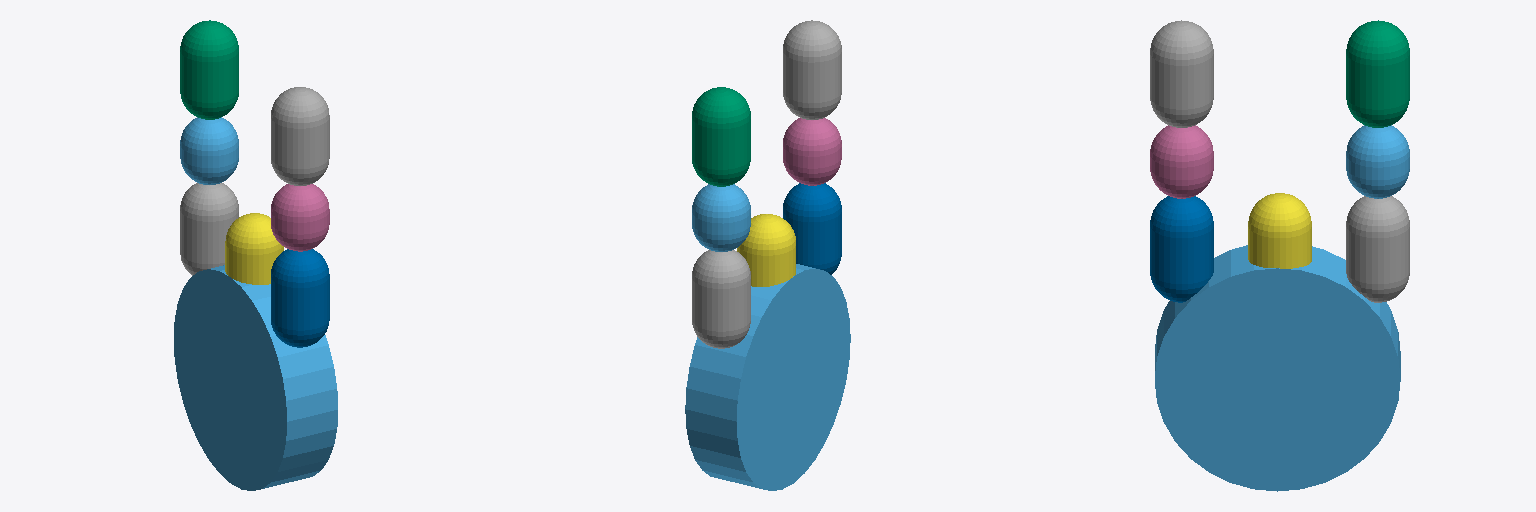
The robot description file, URDF, robot "DexterousHand":
<?xml version="1.0"?>
<robot name="DexterousHand">


    <link name="world"/>
    <joint name="world_to_palm" type="fixed">
        <parent link="world"/>
        <child link="palm"/>
        <origin xyz="0 0 0" rpy="0 0 0"/>
    </joint>
    <link name="palm">
        <inertial>
            <origin xyz="0 0 0.057" rpy="0 0 0"/>
            <mass value="0.30212892864"/>
            <inertia ixx="0.00049080844457568" ixy="0.0" ixz="0.0" iyy="0.00026746366246427523" iyz="0.0" izz="0.00026746366246427523"/>
        </inertial>
        <visual>
            <origin xyz="0 0 0.057" rpy="1.5708 0 1.5708"/>
            <geometry>
                <cylinder radius="0.057" length="0.0296"/>
            </geometry>
            <material name="default"/>
        </visual>
        <collision>
            <origin xyz="0 0 0.057" rpy="1.5708 0 1.5708"/>
            <geometry>
                <cylinder radius="0.057" length="0.0296"/>
            </geometry>
        </collision>
    </link>

    
    <joint name="thumb_joint1" type="revolute">
        <parent link="palm"/>
        <child link="thumb_base"/>
        <origin xyz="0.0 0.0 0.0" rpy="0.0 0.0 0.0"/>
        <axis xyz="1 0 0"/>
        <limit lower="0.0" upper="0.0" effort="1.0" velocity="1.0"/>
    </joint>

    <link name="thumb_base"></link>

    <joint name="thumb_joint2" type="revolute">
        <parent link="thumb_base"/>
        <child link="thumb_proximal"/>
        <origin xyz="0.0 0.0 0.0" rpy="0.0 0.0 0.0"/>
        <axis xyz="0 1 0"/>
        <limit lower="0.0" upper="0.0" effort="1.0" velocity="1.0"/>
    </joint>

    <link name="thumb_proximal">
    </link>

    <joint name="thumb_joint3" type="revolute">
        <parent link="thumb_proximal"/>
        <child link="thumb_knuckle"/>
        <origin xyz="0.0 0.0 0.0" rpy="0.0 0.0 0.0"/>
        <axis xyz="1 0 0"/>
        <limit lower="0.0" upper="0.0" effort="1.0" velocity="1.0"/>
    </joint>

    <link name="thumb_knuckle"></link>

    <joint name="thumb_joint4" type="revolute">
        <parent link="thumb_knuckle"/>
        <child link="thumb_middle"/>
        <origin xyz="0 0 0" rpy="0 0 0"/> 
        <axis xyz="0 1 0"/>
        <limit lower="0.0" upper="0.0" effort="1.0" velocity="1.0"/>
    </joint>

    <link name="thumb_middle">
    </link>

    <joint name="thumb_joint5" type="revolute">
        <parent link="thumb_middle"/>
        <child link="thumb_distal"/>
        <origin xyz="0 0 0" rpy="0 0 0"/> 
        <axis xyz="0 1 0"/>
        <limit lower="0.0" upper="0.0" effort="1.0" velocity="1.0"/>
    </joint>

    <link name="thumb_distal">
    </link>

    
    <joint name="index_joint1" type="revolute">
        <parent link="palm"/>
        <child link="index_proximal"/>
        <origin xyz="0.0 0.0465 0.091" rpy="0.0 0.0 0.0"/>
        <axis xyz="0 1 0"/>
        <limit lower="-0.314" upper="2.23" effort="1.0" velocity="1.0"/>
    </joint>

    <link name="index_proximal">
        <inertial>
            <origin xyz="0 0 0.02655" rpy="0 0 0"/>
            <mass value="0.036540024998400006"/>
            <inertia ixx="1.058665009272394e-05" ixy="0.0" ixz="0.0" 
            iyy="1.058665009272394e-05" iyz="0.0" izz="4.001863537824769e-06"/>
        </inertial>
        <visual>
            <origin xyz="0 0 0.02655" rpy="0 0 0"/>
            <geometry>
                <cylinder radius="0.0148" length="0.0235"/>
            </geometry>
            <material name="default"/>
        </visual>
        <visual>
            <origin xyz="0 0 0.0148" rpy="0 0 0"/>
            <geometry>
                <sphere radius="0.0148"/>
            </geometry>
            <material name="default"/>
        </visual>
        <visual>
            <origin xyz="0 0 0.0383" rpy="0 0 0"/>
            <geometry>
                <sphere radius="0.0148"/>
            </geometry>
            <material name="default"/>
        </visual>
        <collision>
            <origin xyz="0 0 0.02655" rpy="0 0 0"/>
            <geometry>
                <cylinder radius="0.0148" length="0.0235"/>
            </geometry>
        </collision>
        <collision>
            <origin xyz="0 0 0.0148" rpy="0 0 0"/>
            <geometry>
                <sphere radius="0.0148"/>
            </geometry>
        </collision>
        <collision>
            <origin xyz="0 0 0.0383" rpy="0 0 0"/>
            <geometry>
                <sphere radius="0.0148"/>
            </geometry>
        </collision>
    </link>

    <joint name="index_joint2" type="revolute">
        <parent link="index_proximal"/>
        <child link="index_dummy"/>
        <origin xyz="0.0 0.0 0.038" rpy="0.0 0.0 0.0"/>
        <axis xyz="1 0 0"/>
        <limit lower="-1.047" upper="1.047" effort="1.0" velocity="1.0"/>
    </joint>

    <link name="index_dummy"></link>

    <joint name="index_joint3" type="revolute">
        <parent link="index_dummy"/>
        <child link="index_middle"/>
        <origin xyz="0 0 0.015100000000000002" rpy="0 0 0"/>
        <axis xyz="0 1 0"/>
        <limit lower="-0.506" upper="1.885" effort="1.0" velocity="1.0"/>
    </joint>

    <link name="index_middle">
        <inertial>
            <origin xyz="0 0 0.01805" rpy="0 0 0"/>
            <mass value="0.0248417119104"/>
            <inertia ixx="4.058162759109537e-06" ixy="0.0" ixz="0.0" 
            iyy="4.058162759109537e-06" iyz="0.0" izz="2.7206642884270085e-06"/>
        </inertial>
        <visual>
            <origin xyz="0 0 0.01805" rpy="0 0 0"/>
            <geometry>
                <cylinder radius="0.0148" length="0.006499999999999999"/>
            </geometry>
            <material name="default"/>
        </visual>
        <visual>
            <origin xyz="0 0 0.0148" rpy="0 0 0"/>
            <geometry>
                <sphere radius="0.0148"/>
            </geometry>
            <material name="default"/>
        </visual>
        <visual>
            <origin xyz="0 0 0.0213" rpy="0 0 0"/>
            <geometry>
                <sphere radius="0.0148"/>
            </geometry>
            <material name="default"/>
        </visual>
        <collision>
            <origin xyz="0 0 0.01805" rpy="0 0 0"/>
            <geometry>
                <cylinder radius="0.0148" length="0.006499999999999999"/>
            </geometry>
        </collision>
        <collision>
            <origin xyz="0 0 0.0148" rpy="0 0 0"/>
            <geometry>
                <sphere radius="0.0148"/>
            </geometry>
        </collision>
        <collision>
            <origin xyz="0 0 0.0213" rpy="0 0 0"/>
            <geometry>
                <sphere radius="0.0148"/>
            </geometry>
        </collision>
    </link>

    <joint name="index_joint4" type="revolute">
        <parent link="index_middle"/>
        <child link="index_distal"/>
        <origin xyz="0 0 0.0361" rpy="0 0 0"/> 
        <axis xyz="0 1 0"/>
        <limit lower="-0.366" upper="2.042" effort="1.0" velocity="1.0"/>
    </joint>

    <link name="index_distal">
        <inertial>
            <origin xyz="0 0 0.026" rpy="0 0 0"/>
            <mass value="0.035783075328"/>
            <inertia ixx="1.002260084553728e-05" ixy="0.0" ixz="0.0" 
            iyy="1.002260084553728e-05" iyz="0.0" izz="3.91896240992256e-06"/>
        </inertial>
        <visual>
            <origin xyz="0 0 0.026" rpy="0 0 0"/>
            <geometry>
                <cylinder radius="0.0148" length="0.022399999999999996"/>
            </geometry>
            <material name="default"/>
        </visual>
        <visual>
            <origin xyz="0 0 0.0148" rpy="0 0 0"/>
            <geometry>
                <sphere radius="0.0148"/>
            </geometry>
            <material name="default"/>
        </visual>
        <visual>
            <origin xyz="0 0 0.0372" rpy="0 0 0"/>
            <geometry>
                <sphere radius="0.0148"/>
            </geometry>
            <material name="default"/>
        </visual>
        <collision>
            <origin xyz="0 0 0.026" rpy="0 0 0"/>
            <geometry>
                <cylinder radius="0.0148" length="0.022399999999999996"/>
            </geometry>
        </collision>
        <collision>
            <origin xyz="0 0 0.0148" rpy="0 0 0"/>
            <geometry>
                <sphere radius="0.0148"/>
            </geometry>
        </collision>
        <collision>
            <origin xyz="0 0 0.0372" rpy="0 0 0"/>
            <geometry>
                <sphere radius="0.0148"/>
            </geometry>
        </collision>
    </link>

    
    <joint name="middle_joint1" type="revolute">
        <parent link="palm"/>
        <child link="middle_proximal"/>
        <origin xyz="0.0 0.0011 0.091" rpy="0.0 0.0 0.0"/>
        <axis xyz="0 1 0"/>
        <limit lower="-0.314" upper="2.23" effort="1.0" velocity="1.0"/>
    </joint>

    <link name="middle_proximal">
        <inertial>
            <origin xyz="0 0 0.02655" rpy="0 0 0"/>
            <mass value="0.036540024998400006"/>
            <inertia ixx="1.058665009272394e-05" ixy="0.0" ixz="0.0" 
            iyy="1.058665009272394e-05" iyz="0.0" izz="4.001863537824769e-06"/>
        </inertial>
        <visual>
            <origin xyz="0 0 0.02655" rpy="0 0 0"/>
            <geometry>
                <cylinder radius="0.0148" length="0.0235"/>
            </geometry>
            <material name="default"/>
        </visual>
        <visual>
            <origin xyz="0 0 0.0148" rpy="0 0 0"/>
            <geometry>
                <sphere radius="0.0148"/>
            </geometry>
            <material name="default"/>
        </visual>
        <visual>
            <origin xyz="0 0 0.0383" rpy="0 0 0"/>
            <geometry>
                <sphere radius="0.0148"/>
            </geometry>
            <material name="default"/>
        </visual>
        <collision>
            <origin xyz="0 0 0.02655" rpy="0 0 0"/>
            <geometry>
                <cylinder radius="0.0148" length="0.0235"/>
            </geometry>
        </collision>
        <collision>
            <origin xyz="0 0 0.0148" rpy="0 0 0"/>
            <geometry>
                <sphere radius="0.0148"/>
            </geometry>
        </collision>
        <collision>
            <origin xyz="0 0 0.0383" rpy="0 0 0"/>
            <geometry>
                <sphere radius="0.0148"/>
            </geometry>
        </collision>
    </link>

    <joint name="middle_joint2" type="revolute">
        <parent link="middle_proximal"/>
        <child link="middle_dummy"/>
        <origin xyz="0.0 0.0 0.038" rpy="0.0 0.0 0.0"/>
        <axis xyz="0 1 0"/>
        <limit lower="0.0" upper="0.0" effort="1.0" velocity="1.0"/>
    </joint>

    <link name="middle_dummy"></link>

    <joint name="middle_joint3" type="revolute">
        <parent link="middle_dummy"/>
        <child link="middle_middle"/>
        <origin xyz="0 0 0.015100000000000002" rpy="0 0 0"/>
        <axis xyz="0 1 0"/>
        <limit lower="0.0" upper="0.0" effort="1.0" velocity="1.0"/>
    </joint>

    <link name="middle_middle">
    </link>

    <joint name="middle_joint4" type="revolute">
        <parent link="middle_middle"/>
        <child link="middle_distal"/>
        <origin xyz="0 0 0" rpy="0 0 0"/> 
        <axis xyz="0 1 0"/>
        <limit lower="0.0" upper="0.0" effort="1.0" velocity="1.0"/>
    </joint>

    <link name="middle_distal">
    </link>

    
    <joint name="ring_joint1" type="revolute">
        <parent link="palm"/>
        <child link="ring_proximal"/>
        <origin xyz="0.0 0.0 0.0" rpy="0.0 0.0 0.0"/>
        <axis xyz="1 0 0"/>
        <limit lower="0.0" upper="0.0" effort="1.0" velocity="1.0"/>
    </joint>

    <link name="ring_proximal">
    </link>

    <joint name="ring_joint2" type="revolute">
        <parent link="ring_proximal"/>
        <child link="ring_dummy"/>
        <origin xyz="0.0 0.0 0.0" rpy="0.0 0.0 0.0"/>
        <axis xyz="0 1 0"/>
        <limit lower="0.0" upper="0.0" effort="1.0" velocity="1.0"/>
    </joint>

    <link name="ring_dummy"></link>

    <joint name="ring_joint3" type="revolute">
        <parent link="ring_dummy"/>
        <child link="ring_middle"/>
        <origin xyz="0 0 0" rpy="0 0 0"/>
        <axis xyz="0 1 0"/>
        <limit lower="0.0" upper="0.0" effort="1.0" velocity="1.0"/>
    </joint>

    <link name="ring_middle">
    </link>

    <joint name="ring_joint4" type="revolute">
        <parent link="ring_middle"/>
        <child link="ring_distal"/>
        <origin xyz="0 0 0" rpy="0 0 0"/> 
        <axis xyz="0 1 0"/>
        <limit lower="0.0" upper="0.0" effort="1.0" velocity="1.0"/>
    </joint>

    <link name="ring_distal">
    </link>

    
    <joint name="little_joint0" type="revolute">
        <parent link="palm"/>
        <child link="little_base"/>
        <origin xyz="0.0 0.0 0.0" rpy="0.0 0.0 0.0"/>
        <axis xyz="0 1 0"/>
        <limit lower="0.0" upper="0.0" effort="1.0" velocity="1.0"/>
    </joint>

    <link name="little_base"></link>

    <joint name="little_joint1" type="revolute">
        <parent link="little_base"/>
        <child link="little_proximal"/>
        <origin xyz="0.0 -0.0443 0.091" rpy="-0.0 -0.0 -0.0"/>
        <axis xyz="0 1 0"/>
        <limit lower="-0.314" upper="2.23" effort="1.0" velocity="1.0"/>
    </joint>

    <link name="little_proximal">
        <inertial>
            <origin xyz="0 0 0.02655" rpy="0 0 0"/>
            <mass value="0.036540024998400006"/>
            <inertia ixx="1.058665009272394e-05" ixy="0.0" ixz="0.0" 
            iyy="1.058665009272394e-05" iyz="0.0" izz="4.001863537824769e-06"/>
        </inertial>
        <visual>
            <origin xyz="0 0 0.02655" rpy="0 0 0"/>
            <geometry>
                <cylinder radius="0.0148" length="0.0235"/>
            </geometry>
            <material name="default"/>
        </visual>
        <visual>
            <origin xyz="0 0 0.0148" rpy="0 0 0"/>
            <geometry>
                <sphere radius="0.0148"/>
            </geometry>
            <material name="default"/>
        </visual>
        <visual>
            <origin xyz="0 0 0.0383" rpy="0 0 0"/>
            <geometry>
                <sphere radius="0.0148"/>
            </geometry>
            <material name="default"/>
        </visual>
        <collision>
            <origin xyz="0 0 0.02655" rpy="0 0 0"/>
            <geometry>
                <cylinder radius="0.0148" length="0.0235"/>
            </geometry>
        </collision>
        <collision>
            <origin xyz="0 0 0.0148" rpy="0 0 0"/>
            <geometry>
                <sphere radius="0.0148"/>
            </geometry>
        </collision>
        <collision>
            <origin xyz="0 0 0.0383" rpy="0 0 0"/>
            <geometry>
                <sphere radius="0.0148"/>
            </geometry>
        </collision>
    </link>

    <joint name="little_joint2" type="revolute">
        <parent link="little_proximal"/>
        <child link="little_dummy"/>
        <origin xyz="0.0 0.0 0.038" rpy="0.0 0.0 0.0"/>
        <axis xyz="1 0 0"/>
        <limit lower="-1.047" upper="1.047" effort="1.0" velocity="1.0"/>
    </joint>

    <link name="little_dummy"></link>

    <joint name="little_joint3" type="revolute">
        <parent link="little_dummy"/>
        <child link="little_middle"/>
        <origin xyz="0 0 0.015100000000000002" rpy="0 0 0"/>
        <axis xyz="0 1 0"/>
        <limit lower="-0.506" upper="1.885" effort="1.0" velocity="1.0"/>
    </joint>

    <link name="little_middle">
        <inertial>
            <origin xyz="0 0 0.01805" rpy="0 0 0"/>
            <mass value="0.0248417119104"/>
            <inertia ixx="4.058162759109537e-06" ixy="0.0" ixz="0.0" 
            iyy="4.058162759109537e-06" iyz="0.0" izz="2.7206642884270085e-06"/>
        </inertial>
        <visual>
            <origin xyz="0 0 0.01805" rpy="0 0 0"/>
            <geometry>
                <cylinder radius="0.0148" length="0.006499999999999999"/>
            </geometry>
            <material name="default"/>
        </visual>
        <visual>
            <origin xyz="0 0 0.0148" rpy="0 0 0"/>
            <geometry>
                <sphere radius="0.0148"/>
            </geometry>
            <material name="default"/>
        </visual>
        <visual>
            <origin xyz="0 0 0.0213" rpy="0 0 0"/>
            <geometry>
                <sphere radius="0.0148"/>
            </geometry>
            <material name="default"/>
        </visual>
        <collision>
            <origin xyz="0 0 0.01805" rpy="0 0 0"/>
            <geometry>
                <cylinder radius="0.0148" length="0.006499999999999999"/>
            </geometry>
        </collision>
        <collision>
            <origin xyz="0 0 0.0148" rpy="0 0 0"/>
            <geometry>
                <sphere radius="0.0148"/>
            </geometry>
        </collision>
        <collision>
            <origin xyz="0 0 0.0213" rpy="0 0 0"/>
            <geometry>
                <sphere radius="0.0148"/>
            </geometry>
        </collision>
    </link>

    <joint name="little_joint4" type="revolute">
        <parent link="little_middle"/>
        <child link="little_distal"/>
        <origin xyz="0 0 0.0361" rpy="0 0 0"/>
        <axis xyz="0 1 0"/>
        <limit lower="-0.366" upper="2.042" effort="1.0" velocity="1.0"/>
    </joint>

    <link name="little_distal">
        <inertial>
            <origin xyz="0 0 0.026" rpy="0 0 0"/>
            <mass value="0.035783075328"/>
            <inertia ixx="1.002260084553728e-05" ixy="0.0" ixz="0.0" 
            iyy="1.002260084553728e-05" iyz="0.0" izz="3.91896240992256e-06"/>
        </inertial>
        <visual>
            <origin xyz="0 0 0.026" rpy="0 0 0"/>
            <geometry>
                <cylinder radius="0.0148" length="0.022399999999999996"/>
            </geometry>
            <material name="default"/>
        </visual>
        <visual>
            <origin xyz="0 0 0.0148" rpy="0 0 0"/>
            <geometry>
                <sphere radius="0.0148"/>
            </geometry>
            <material name="default"/>
        </visual>
        <visual>
            <origin xyz="0 0 0.0372" rpy="0 0 0"/>
            <geometry>
                <sphere radius="0.0148"/>
            </geometry>
            <material name="default"/>
        </visual>
        <collision>
            <origin xyz="0 0 0.026" rpy="0 0 0"/>
            <geometry>
                <cylinder radius="0.0148" length="0.022399999999999996"/>
            </geometry>
        </collision>
        <collision>
            <origin xyz="0 0 0.0148" rpy="0 0 0"/>
            <geometry>
                <sphere radius="0.0148"/>
            </geometry>
        </collision>
        <collision>
            <origin xyz="0 0 0.0372" rpy="0 0 0"/>
            <geometry>
                <sphere radius="0.0148"/>
            </geometry>
        </collision>
    </link>

</robot>

--- Facts derived from the render (not from the file) ---
Views: 3 orthographic renders of the robot side by side, from view 1: azimuth 30°, elevation 25°; view 2: azimuth 150°, elevation 25°; view 3: azimuth 270°, elevation 25°.
Robot: DexterousHand — 24 links, 23 joints (22 revolute, 1 fixed); root link world; default pose: every joint at zero.
Visible links, largest first — view 1: palm, little_proximal, little_distal, index_distal, index_proximal, little_middle, index_middle, middle_proximal; view 2: palm, index_proximal, index_distal, little_distal, little_proximal, index_middle, little_middle, middle_proximal; view 3: palm, index_distal, little_distal, index_proximal, little_proximal, middle_proximal, index_middle, little_middle.
Link boxes in pixels (left/top/right/bottom): palm: left=174, top=265, right=337, bottom=490; little_proximal: left=271, top=249, right=329, bottom=347; little_distal: left=271, top=87, right=329, bottom=185; index_distal: left=180, top=20, right=238, bottom=119; index_proximal: left=180, top=183, right=238, bottom=275; little_middle: left=271, top=184, right=329, bottom=251; index_middle: left=180, top=117, right=238, bottom=184; middle_proximal: left=225, top=213, right=283, bottom=284; palm: left=685, top=264, right=850, bottom=490; index_proximal: left=692, top=250, right=750, bottom=348; index_distal: left=692, top=87, right=750, bottom=186; little_distal: left=783, top=20, right=841, bottom=119; little_proximal: left=783, top=183, right=841, bottom=274; index_middle: left=692, top=184, right=750, bottom=251; little_middle: left=783, top=118, right=841, bottom=185; middle_proximal: left=737, top=214, right=795, bottom=286; palm: left=1155, top=245, right=1400, bottom=491; index_distal: left=1346, top=20, right=1409, bottom=127; little_distal: left=1150, top=20, right=1213, bottom=127; index_proximal: left=1346, top=196, right=1409, bottom=302; little_proximal: left=1150, top=196, right=1213, bottom=302; middle_proximal: left=1248, top=193, right=1311, bottom=268; index_middle: left=1346, top=125, right=1409, bottom=198; little_middle: left=1150, top=125, right=1213, bottom=198.
Size in the robot's own frame: 0.0296 by 0.1204 by 0.2322 metres.
Geometry: primitives only (box / cylinder / sphere), no mesh files.
